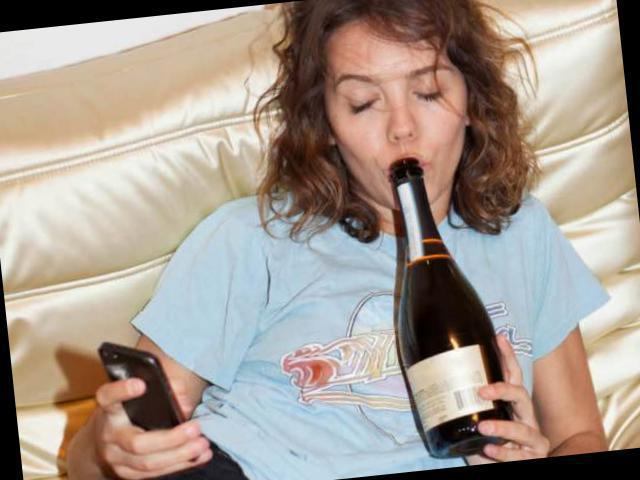Drunk: (326, 31, 476, 206)
